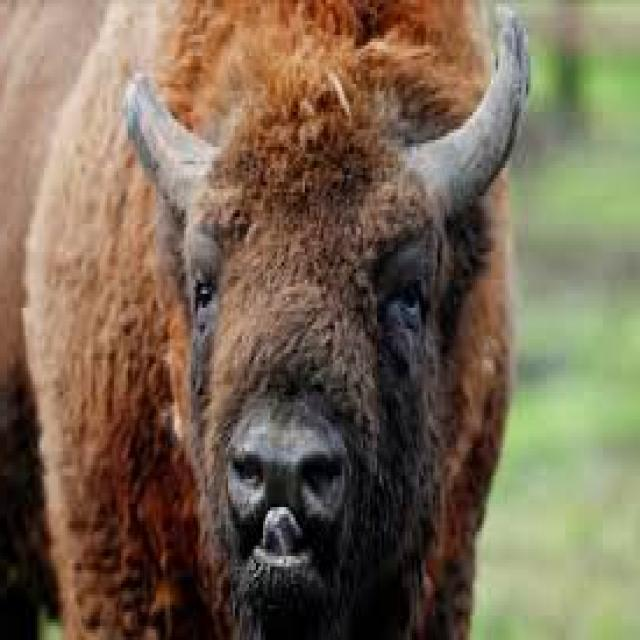bison: (2, 0, 528, 637)
